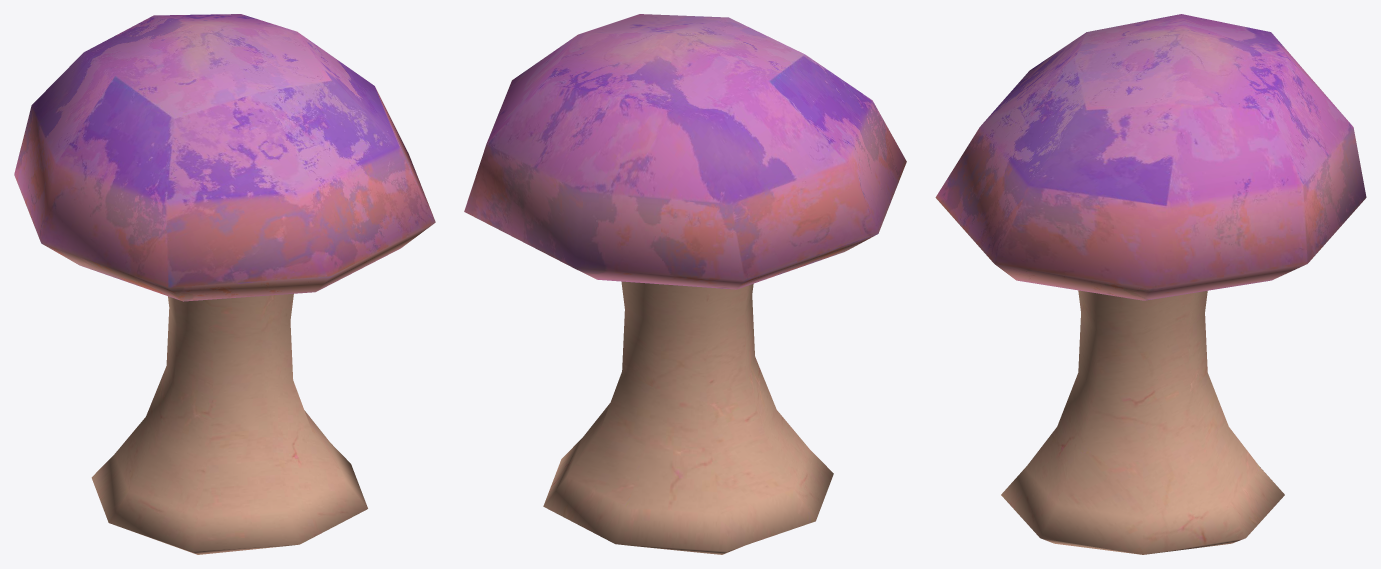
File: Shroom.fbx
3 renders of one model, left to right at view 1: azimuth 30°, elevation 25°; view 2: azimuth 150°, elevation 25°; view 3: azimuth 270°, elevation 25°, orthographic. The views are drawn at different scales.
Parts seen in each view (by area): view 1: Blocktwo.008; view 2: Blocktwo.008; view 3: Blocktwo.008.
Part boxes in pixels (bbox=[...]): Blocktwo.008: bbox=[14, 14, 435, 554]; Blocktwo.008: bbox=[464, 14, 906, 554]; Blocktwo.008: bbox=[935, 14, 1366, 554].
Size of the model in its own units: 212 by 258 by 212.
Materials: 1 (1 with a texture image).
